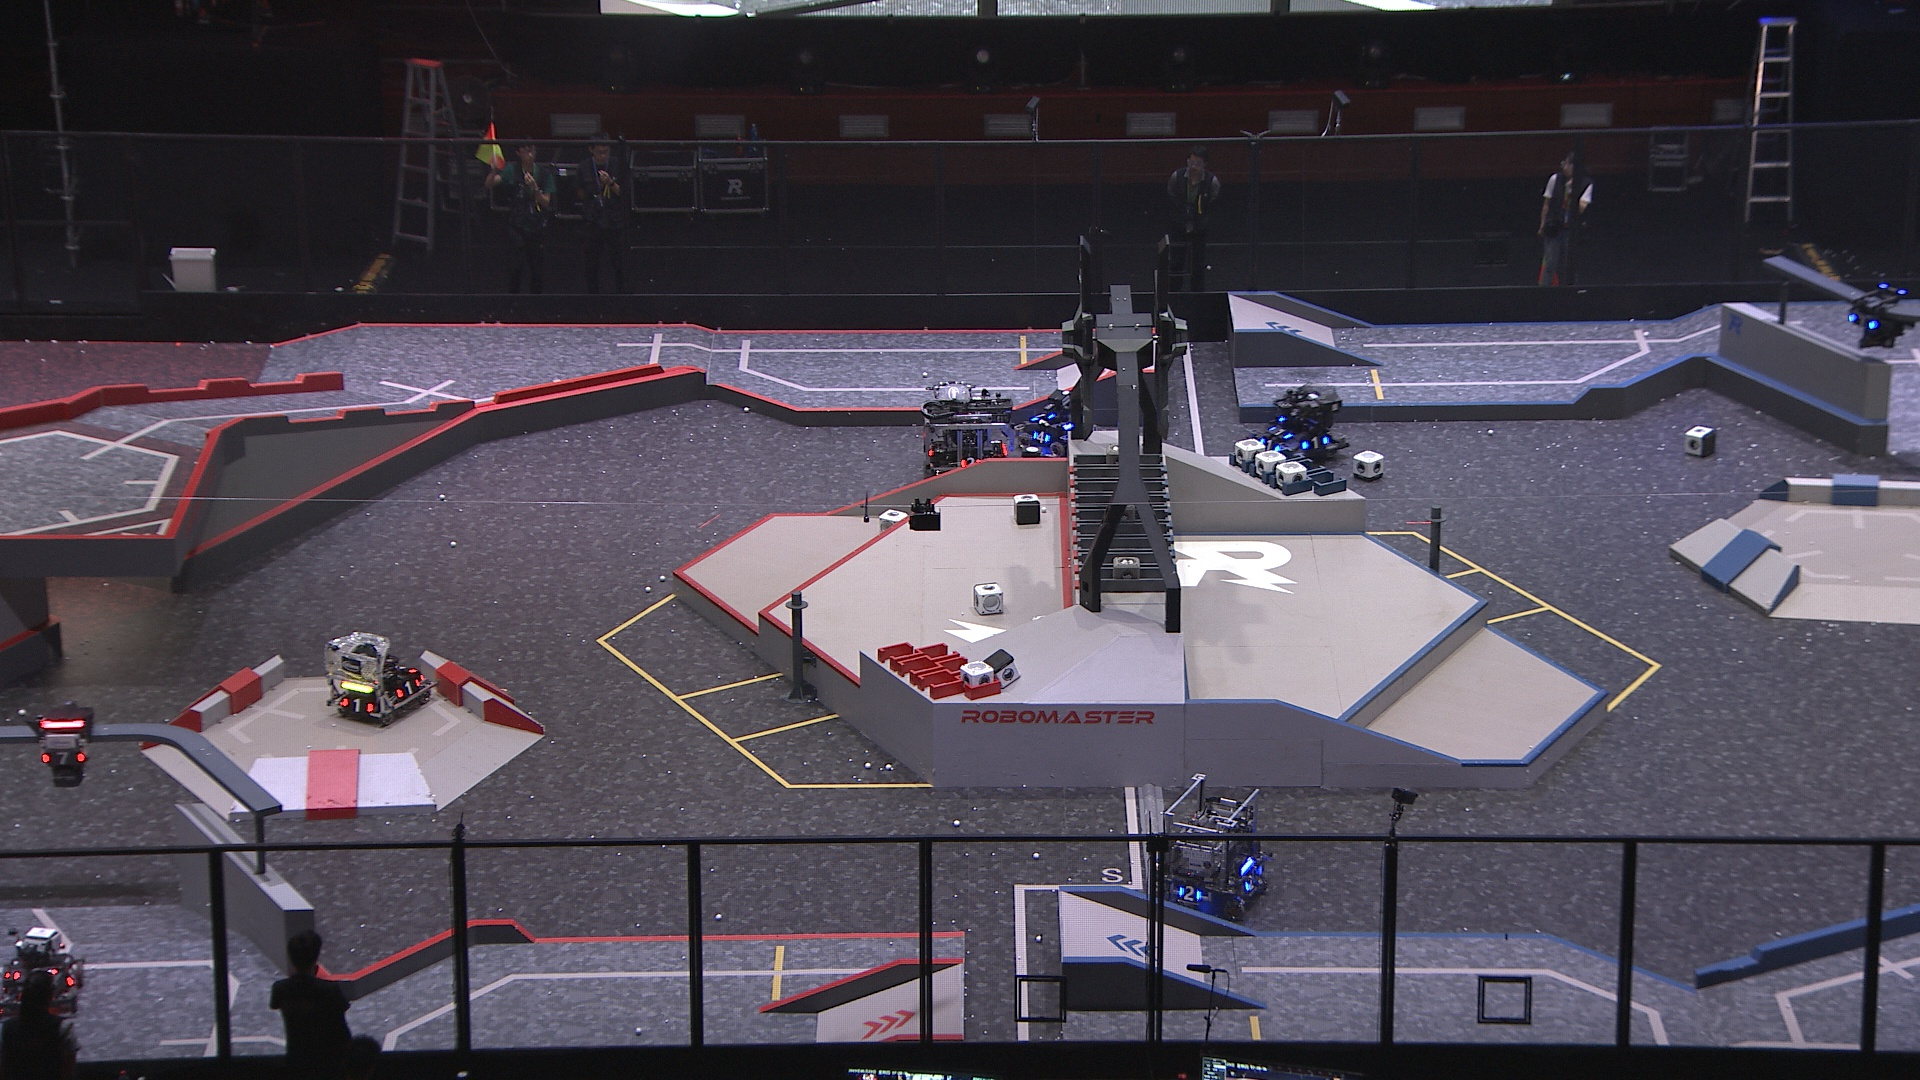armor: (44, 750, 87, 767), (1847, 310, 1880, 332), (342, 695, 376, 716), (1302, 434, 1332, 452), (396, 676, 422, 698), (1258, 436, 1284, 455), (1179, 884, 1203, 903), (1266, 425, 1295, 440), (1031, 427, 1054, 444), (959, 455, 982, 469), (65, 969, 82, 988), (1244, 874, 1261, 891), (5, 968, 24, 982)
car: (1156, 773, 1273, 924), (324, 632, 433, 727), (920, 381, 1015, 480), (1247, 386, 1353, 469), (1011, 392, 1098, 462)
watcher: (30, 703, 96, 789), (1846, 284, 1920, 352)
